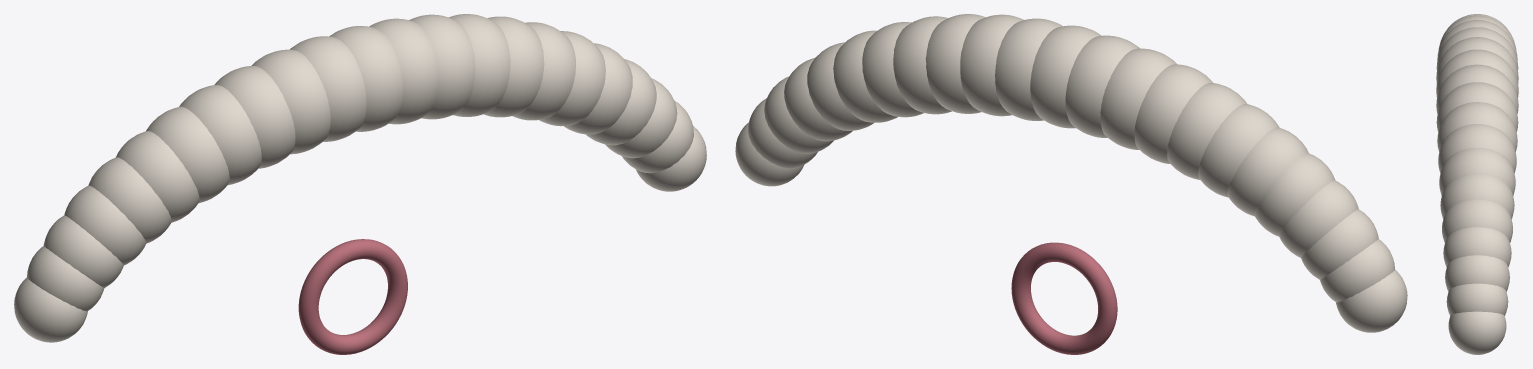
File: aur-006-opera-pearl.glb
3 views of the same model, side by side, from view 1: azimuth 30°, elevation 25°; view 2: azimuth 150°, elevation 25°; view 3: azimuth 270°, elevation 25° (orthographic). The views are drawn at different scales.
Parts seen in each view (by area): view 1: pearl (×23), rose_gold_clasp; view 2: pearl (×23), rose_gold_clasp; view 3: pearl (×17).
Part boxes in pixels (<box>): pearl (×23): <box>14,14,706,342</box>; rose_gold_clasp: <box>298,239,407,354</box>; pearl (×23): <box>735,14,1407,332</box>; rose_gold_clasp: <box>1011,242,1117,354</box>; pearl (×17): <box>1436,14,1518,354</box>.
Size of the model in its own units: 2.75 by 1.26 by 0.37.
